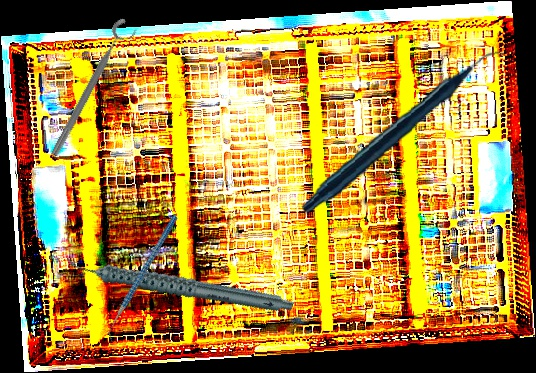Chopper: (75, 214, 212, 343)
Fixation Ring: (46, 16, 141, 163)
Handpiece: (292, 50, 517, 215), (64, 209, 295, 358)
